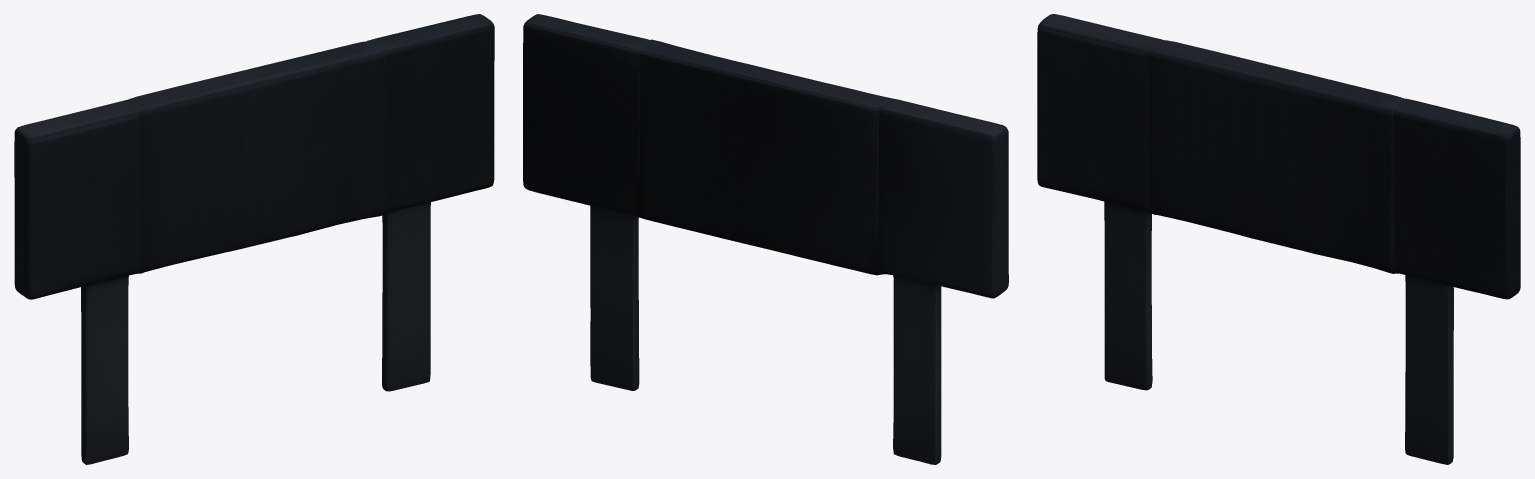
The model's file is vanessa_queen_headboard_baf.glb.
3 renders of one model, left to right at view 1: azimuth 30°, elevation 25°; view 2: azimuth 150°, elevation 25°; view 3: azimuth 330°, elevation 25°, orthographic.
Parts seen in each view (by area): view 1: world; view 2: world; view 3: world.
Part boxes in pixels (x1=…): world: x1=14, y1=14, x2=494, y2=464; world: x1=523, y1=14, x2=1008, y2=464; world: x1=1037, y1=14, x2=1520, y2=464.
Bounding box in the file's own units: 1 × 0.7077 × 0.0662.
Materials: 1 (1 with a texture image).
